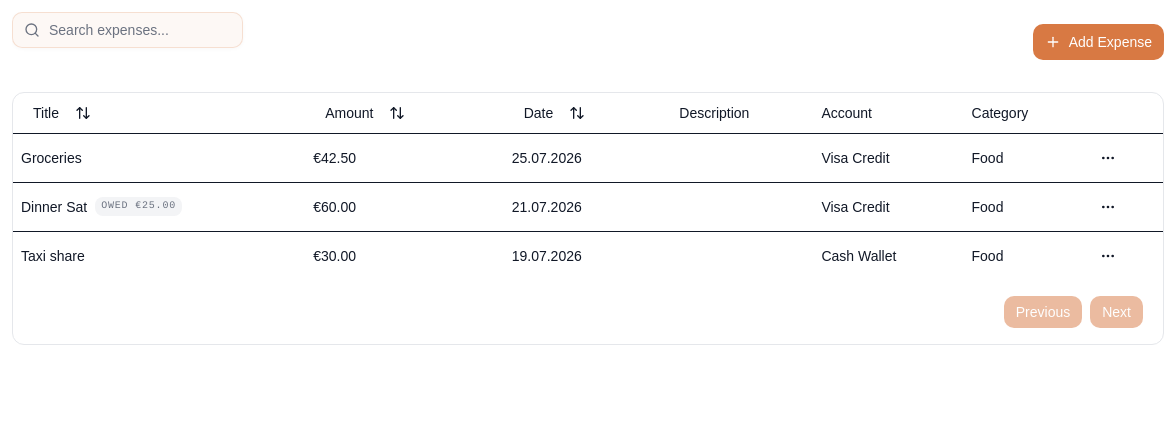
Test: ExpenseList settle action › offers Settle only where there is something to settle
Click the button named "open menu" in the row of "Dinner Sat" at (1108, 206), box left=1092, top=190, right=1124, bottom=222
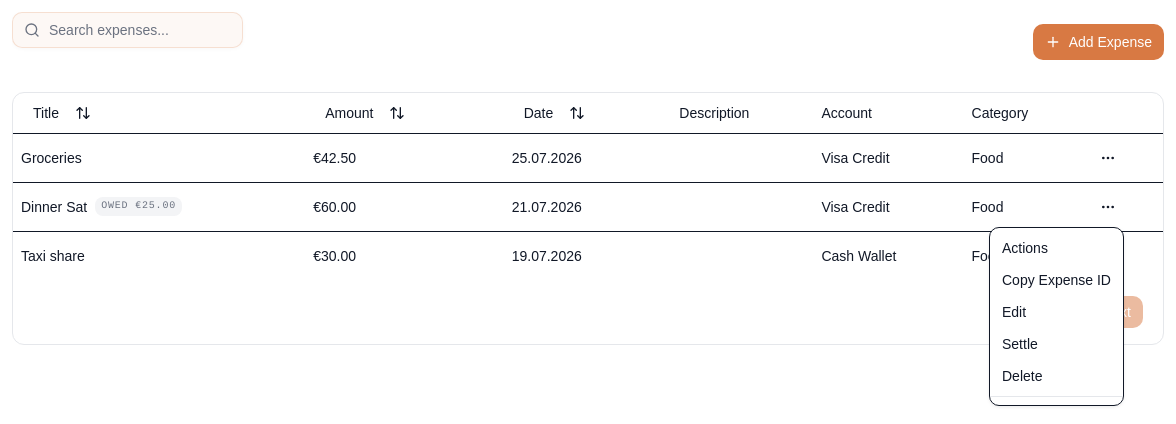
Now the menu item "Settle" is shown, box left=1002, top=336, right=1038, bottom=352
Press Escape
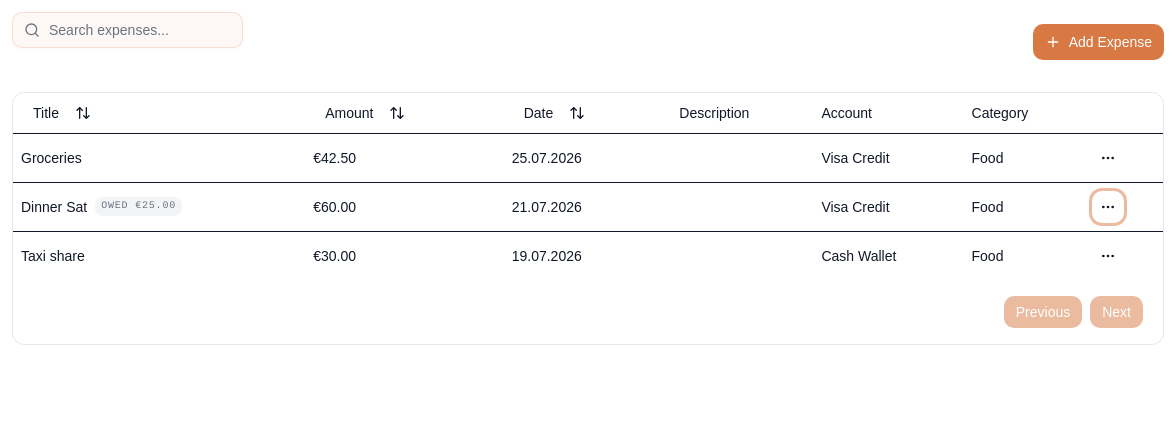
Click the button named "open menu" in the row of "Groceries" at (1108, 158), box left=1092, top=142, right=1124, bottom=174
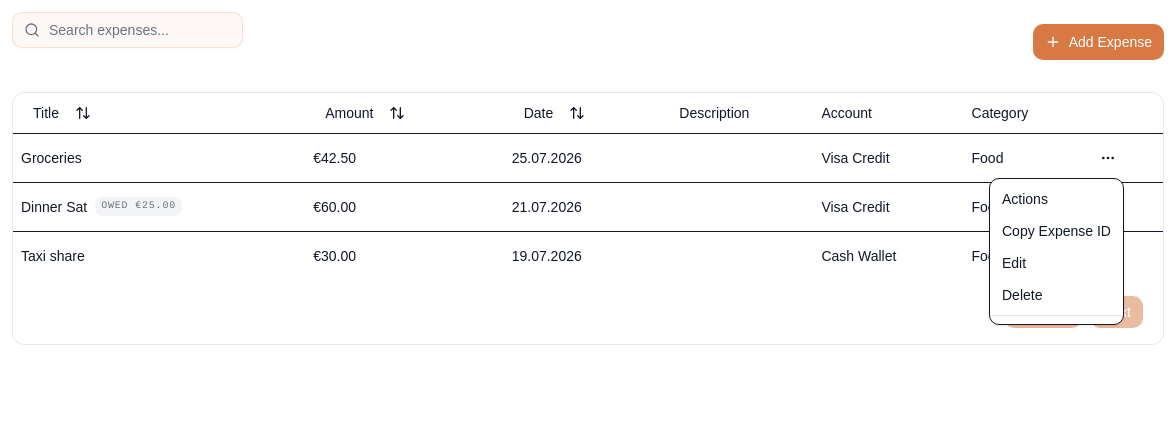
Expected: the menu item "Settle" is not shown
Now the menu item "Edit" is shown, box left=1002, top=255, right=1026, bottom=271
